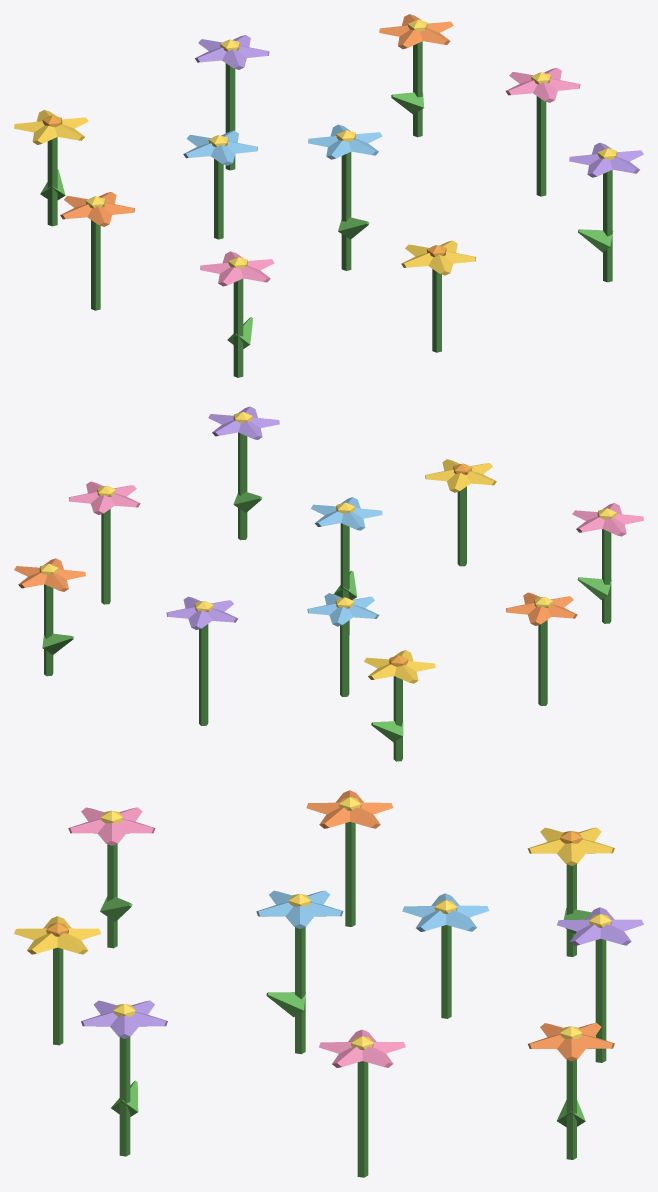
Rendered from flores.glb.
The picture shows the model from 3 angles, top to bottom: view 1: azimuth 30°, elevation 25°; view 2: azimuth 150°, elevation 25°; view 3: azimuth 270°, elevation 25°; orthographic projection. The views are drawn at different scales.
Parts seen in each view (by area): view 1: Flor_05_Haste, Flor_06_Haste, Flor_01_Haste, Flor_03_Haste, Flor_07_Haste, Flor_04_Haste, Flor_08_Haste, Flor_02_Haste, Flor_09_Haste, Flor_10_Haste; view 2: Flor_08_Haste, Flor_06_Haste, Flor_03_Haste, Flor_01_Haste, Flor_04_Haste, Flor_02_Haste, Flor_09_Haste, Flor_10_Haste, Flor_05_Haste, Flor_07_Haste; view 3: Flor_06_Haste, Flor_03_Haste, Flor_08_Haste, Flor_05_Haste, Flor_04_Haste, Flor_09_Haste, Flor_02_Haste, Flor_10_Haste, Flor_01_Haste, Flor_07_Haste, Flor_05_Folha.
Part boxes in pixels (x1,y1,x2,y2): Flor_05_Haste: [341, 152, 351, 270]; Flor_06_Haste: [536, 96, 546, 196]; Flor_01_Haste: [233, 278, 243, 377]; Flor_03_Haste: [603, 170, 612, 282]; Flor_07_Haste: [47, 137, 57, 226]; Flor_04_Haste: [91, 220, 100, 310]; Flor_08_Haste: [225, 63, 235, 170]; Flor_02_Haste: [432, 269, 441, 352]; Flor_09_Haste: [413, 41, 422, 137]; Flor_10_Haste: [214, 159, 223, 239]; Flor_08_Haste: [199, 624, 208, 725]; Flor_06_Haste: [101, 509, 110, 604]; Flor_03_Haste: [238, 432, 247, 540]; Flor_01_Haste: [602, 529, 611, 623]; Flor_04_Haste: [538, 620, 547, 705]; Flor_02_Haste: [457, 486, 466, 566]; Flor_09_Haste: [44, 584, 53, 676]; Flor_10_Haste: [340, 620, 349, 696]; Flor_05_Haste: [340, 523, 349, 634]; Flor_07_Haste: [393, 676, 402, 761]; Flor_06_Haste: [357, 1061, 368, 1177]; Flor_03_Haste: [119, 1037, 130, 1156]; Flor_08_Haste: [595, 938, 606, 1062]; Flor_05_Haste: [295, 927, 305, 1054]; Flor_04_Haste: [345, 822, 355, 926]; Flor_09_Haste: [566, 1059, 576, 1159]; Flor_02_Haste: [53, 947, 63, 1045]; Flor_10_Haste: [441, 925, 451, 1018]; Flor_01_Haste: [107, 844, 117, 948]; Flor_07_Haste: [566, 864, 576, 956]; Flor_05_Folha: [266, 992, 305, 1017].
Size of the model in its own units: 1.62 by 0.4176 by 1.51.
